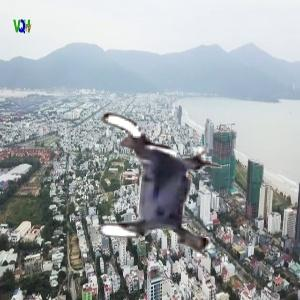drone: (80, 110, 236, 266)
